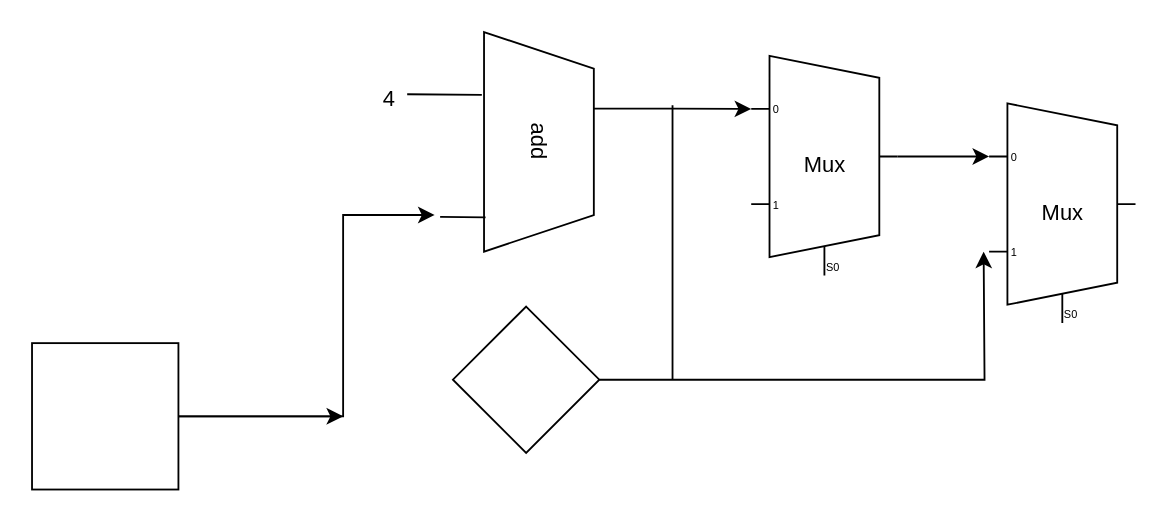
The diagram is 1168 pixels wide and 522 high, and some of its shapes have lost their labels. The shapes that lost their labels are listed below. From the top down, each one's box as (x1, y1, x2, y2) in pixels, then its label:
(451, 305, 599, 453): shift
(30, 341, 178, 490): PC
